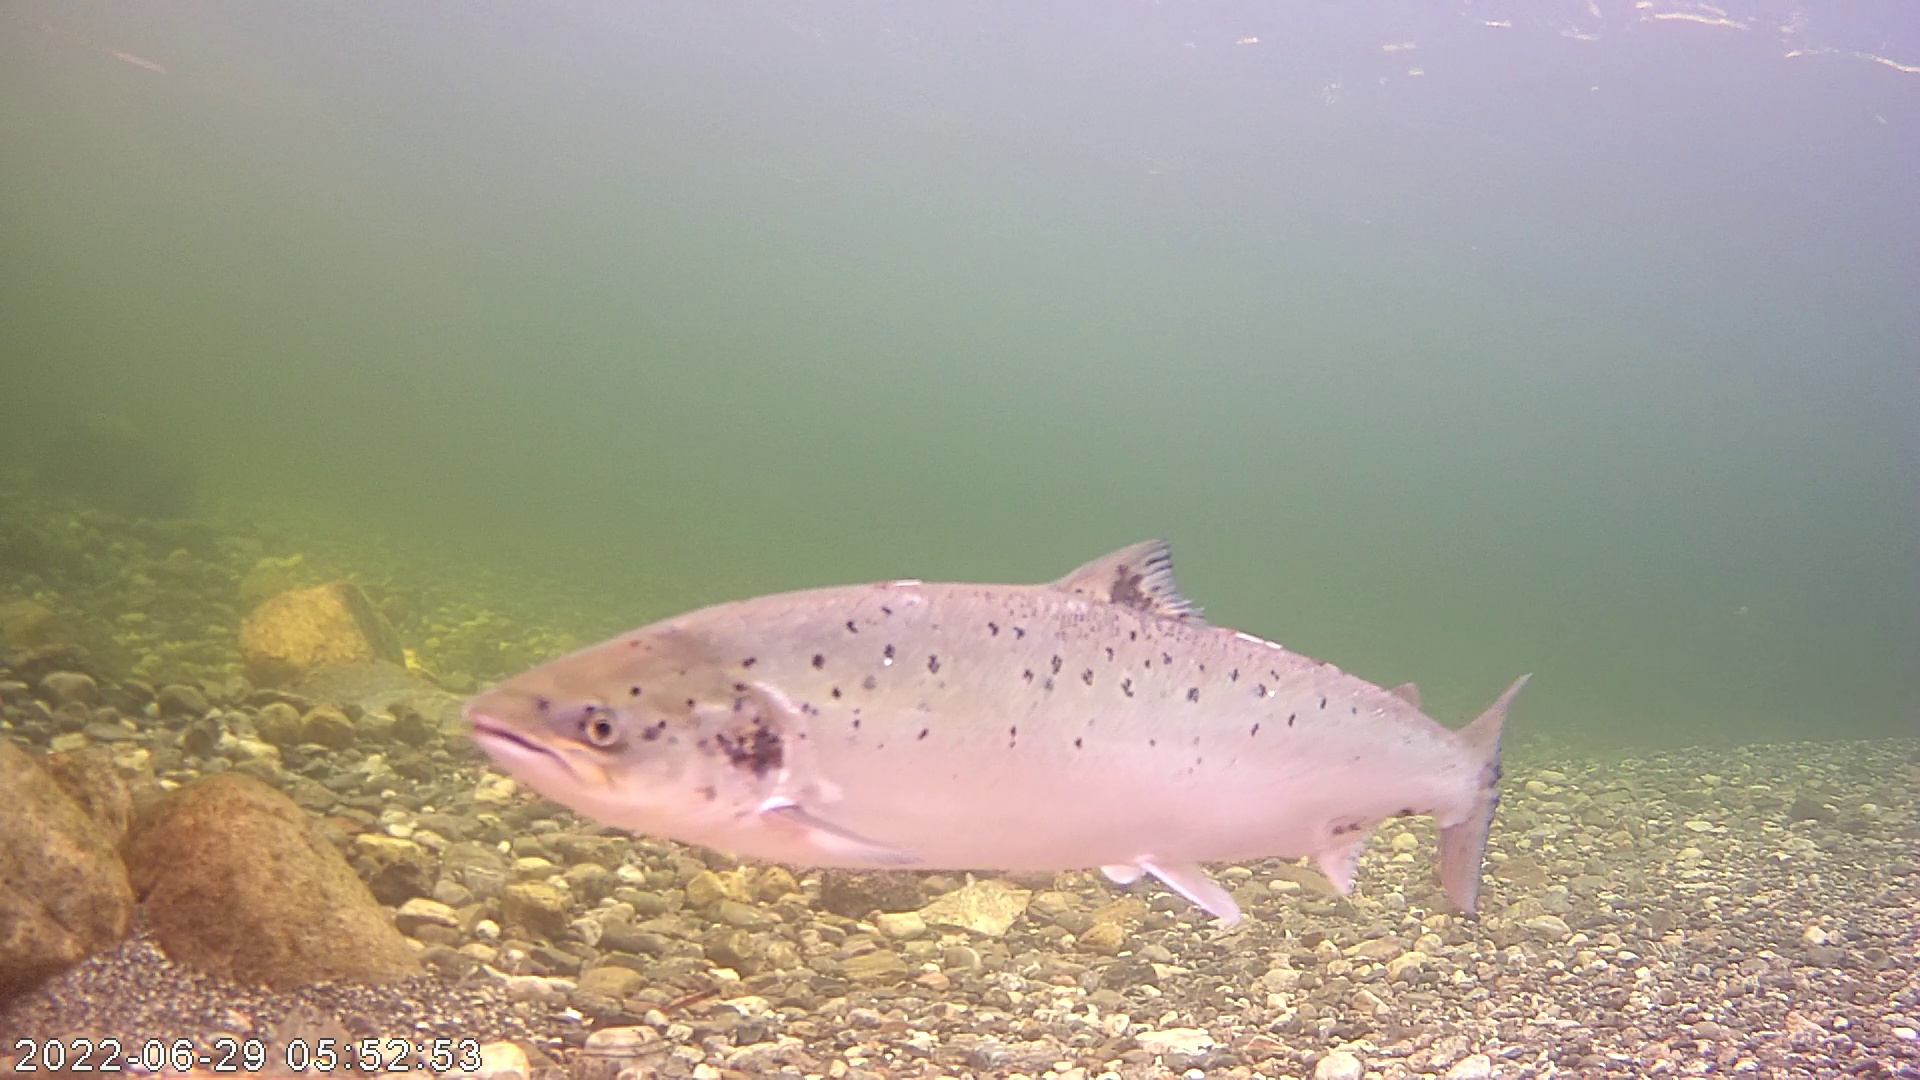salmon: (465, 436, 1522, 905)
